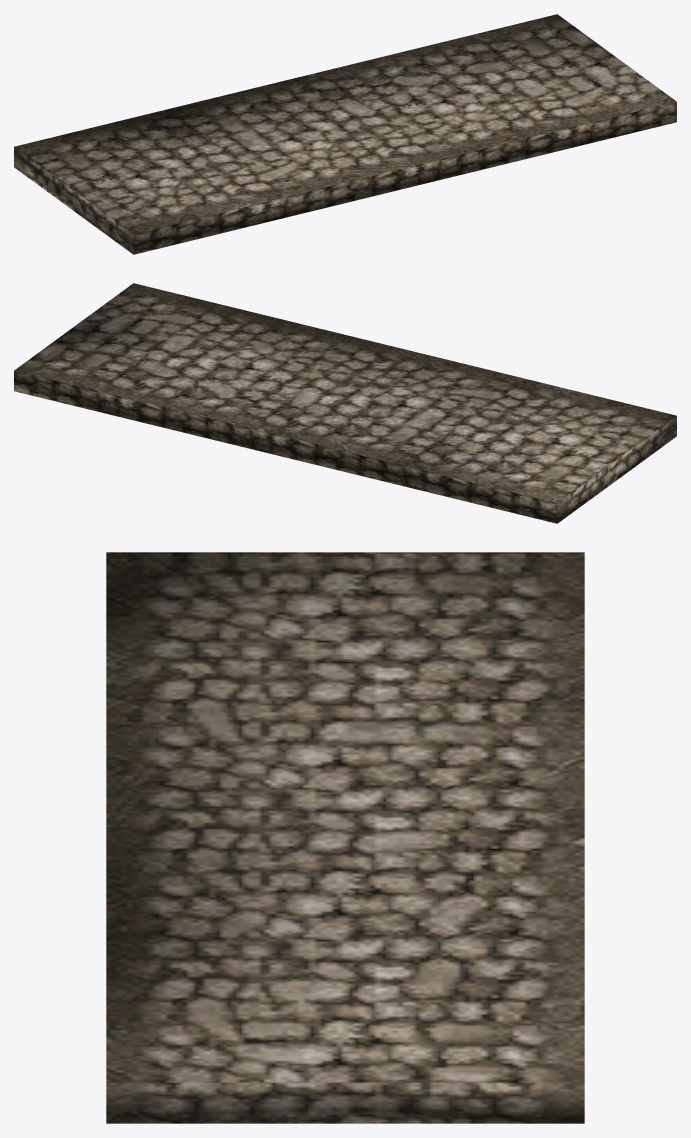
File: stbr11.dae
The picture shows the model from 3 angles, top to bottom: view 1: azimuth 30°, elevation 25°; view 2: azimuth 150°, elevation 25°; view 3: azimuth 270°, elevation 25°; orthographic projection. The views are drawn at different scales.
Parts seen in each view (by area): view 1: base; view 2: base; view 3: base.
Boxes of the visible parts, x1,y1,x2,y2 form: base: (14, 14, 676, 254); base: (14, 283, 676, 523); base: (106, 552, 584, 1123).
Bounding box in the file's own units: 3.99 × 1.52 × 0.1443.
1 material, 1 textured.
